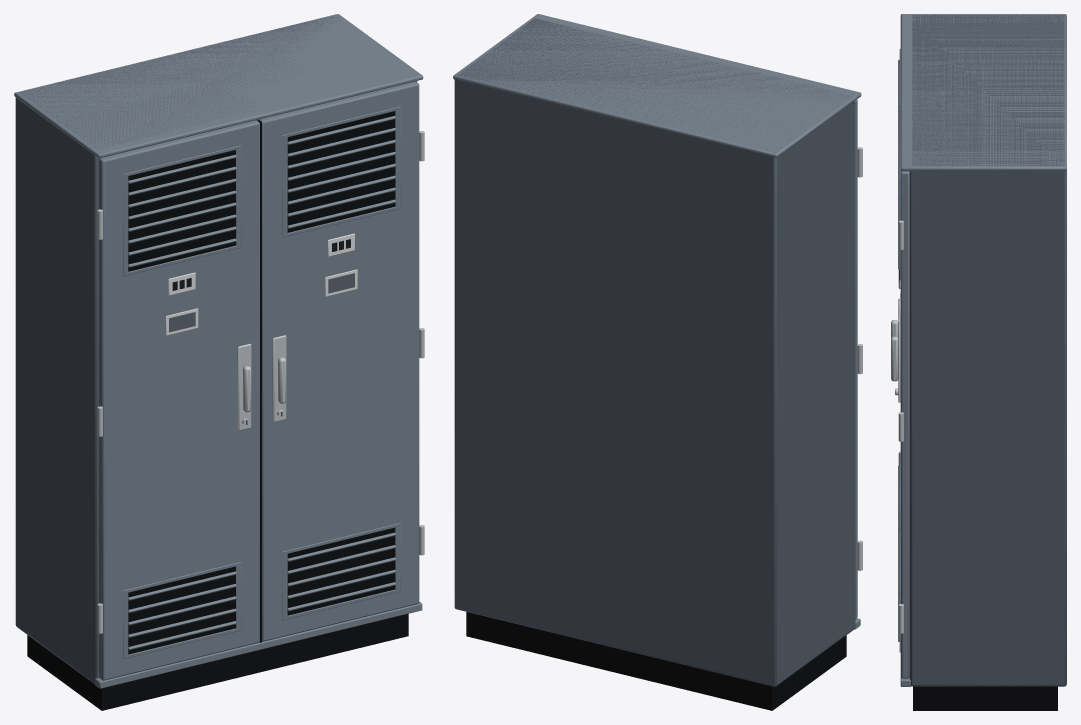
The model's file is locker.glb.
3 views of the same model, side by side, from view 1: azimuth 30°, elevation 25°; view 2: azimuth 150°, elevation 25°; view 3: azimuth 270°, elevation 25° (orthographic). The views are drawn at different scales.
Parts seen in each view (by area): view 1: locker_locker_paint, locker_locker_paint_dark, locker_locker_dark, locker_locker_steel, locker_locker_plate; view 2: locker_locker_paint_dark, locker_locker_paint, locker_locker_dark; view 3: locker_locker_paint_dark, locker_locker_paint, locker_locker_dark, locker_locker_steel.
Boxes of the visible parts, x1,y1,x2,y2 form: locker_locker_paint: [14, 14, 423, 688]; locker_locker_paint_dark: [15, 15, 417, 683]; locker_locker_dark: [27, 111, 408, 710]; locker_locker_steel: [97, 131, 424, 633]; locker_locker_plate: [166, 233, 357, 335]; locker_locker_paint_dark: [454, 18, 855, 686]; locker_locker_paint: [453, 14, 861, 629]; locker_locker_dark: [466, 612, 846, 710]; locker_locker_paint_dark: [909, 15, 1066, 686]; locker_locker_paint: [898, 14, 1066, 686]; locker_locker_dark: [895, 389, 1057, 710]; locker_locker_steel: [891, 220, 903, 633].
Bounding box in the file's own units: 1.21 × 2 × 0.582.
